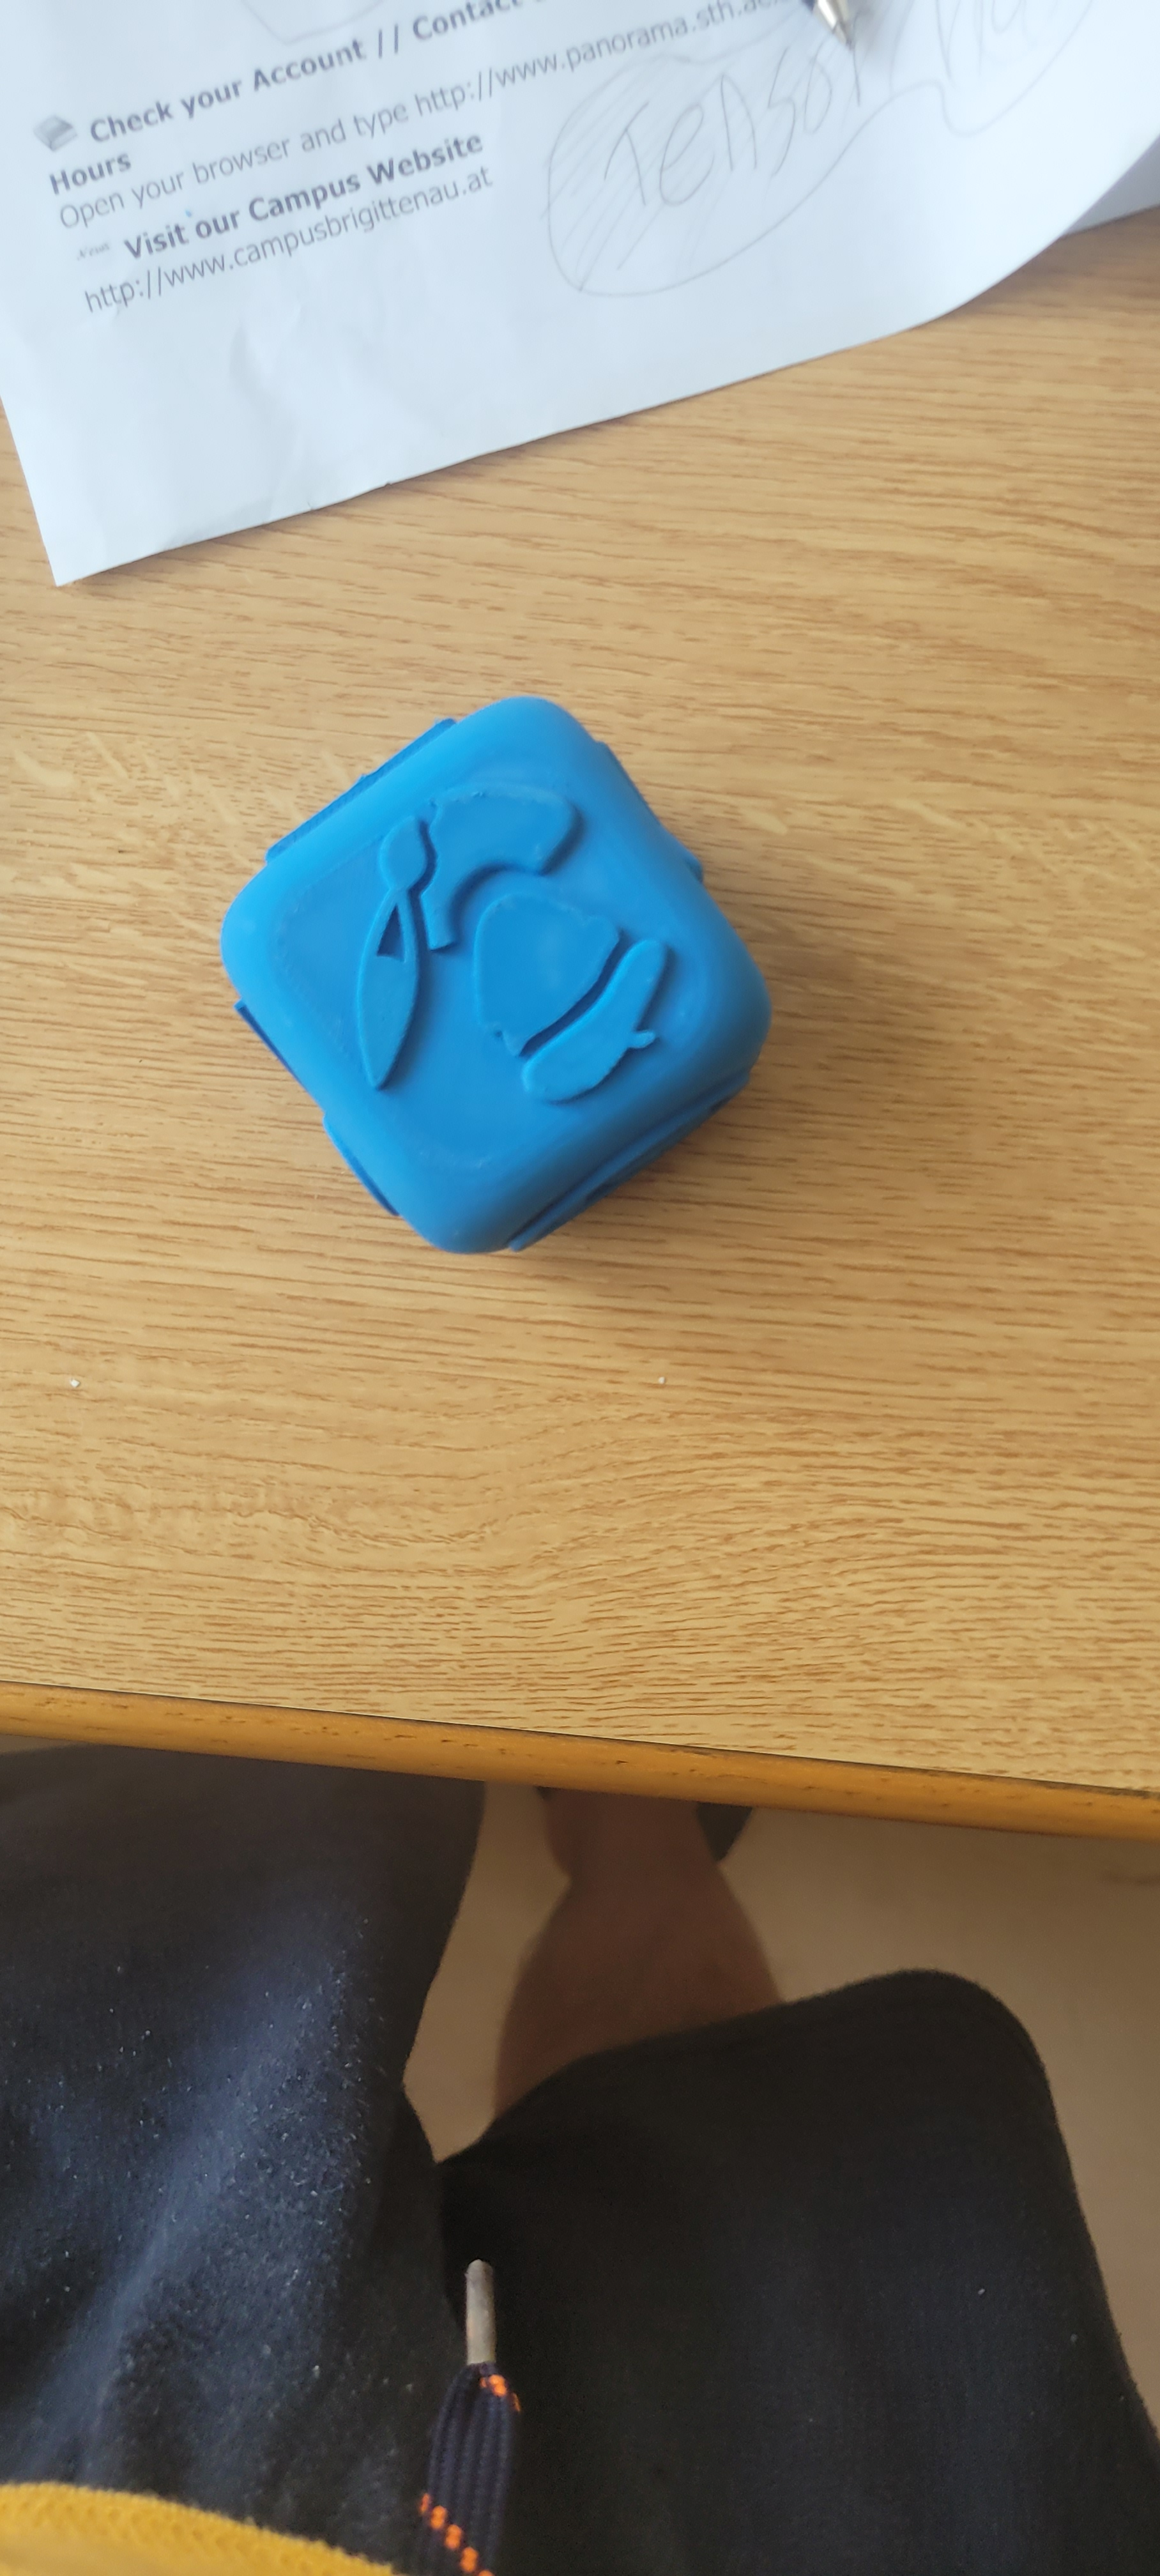Artist_Info: (171, 701, 757, 1216)
